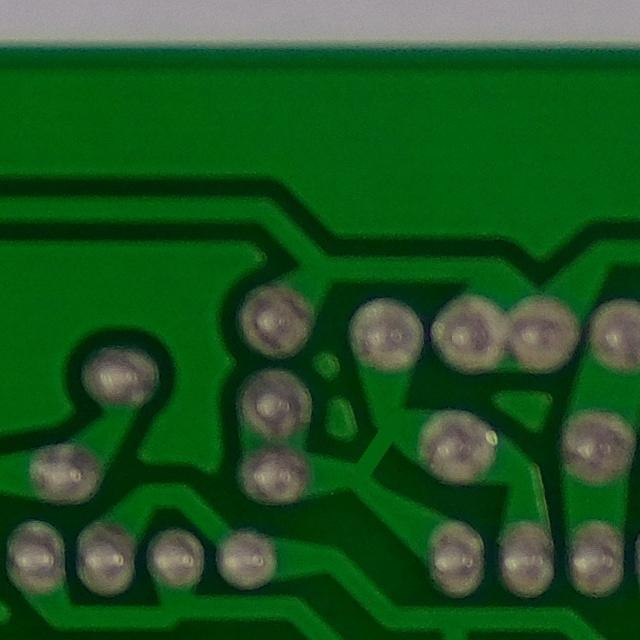short: (336, 386, 426, 505)
